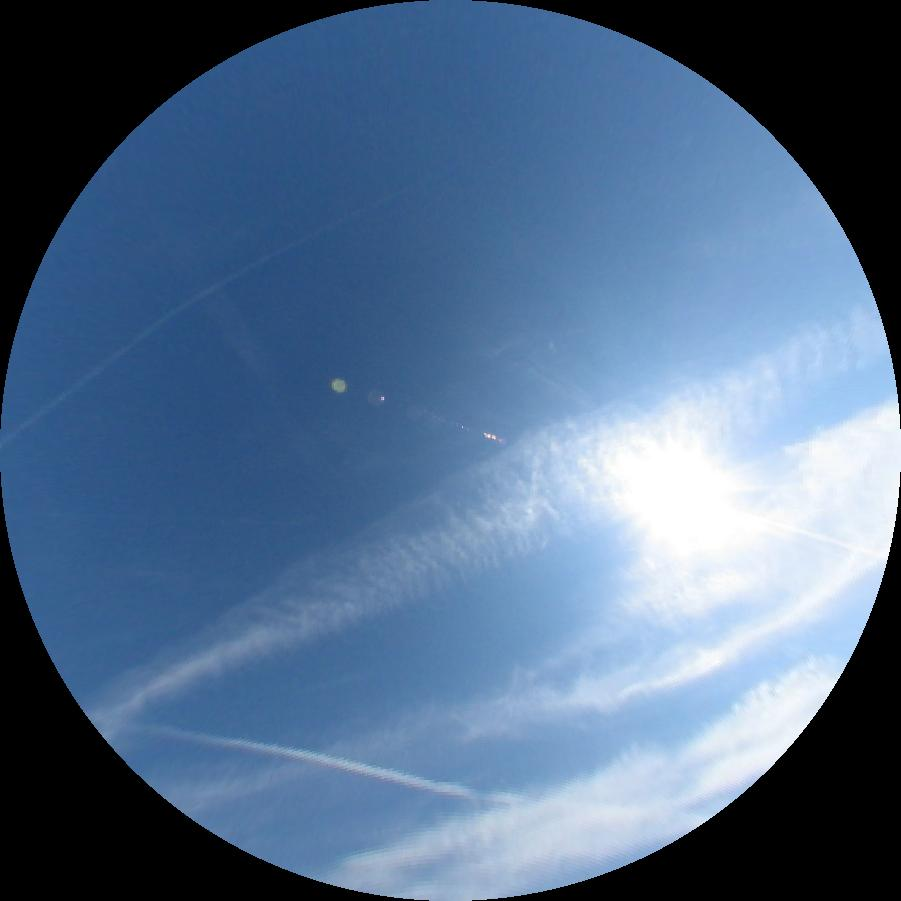contrail old: (124, 724, 543, 810)
contrail veryold: (85, 295, 891, 743), (154, 394, 901, 818)
contrail young: (1, 182, 414, 448)
parasite: (726, 508, 888, 560)
sun: (638, 460, 725, 538)
